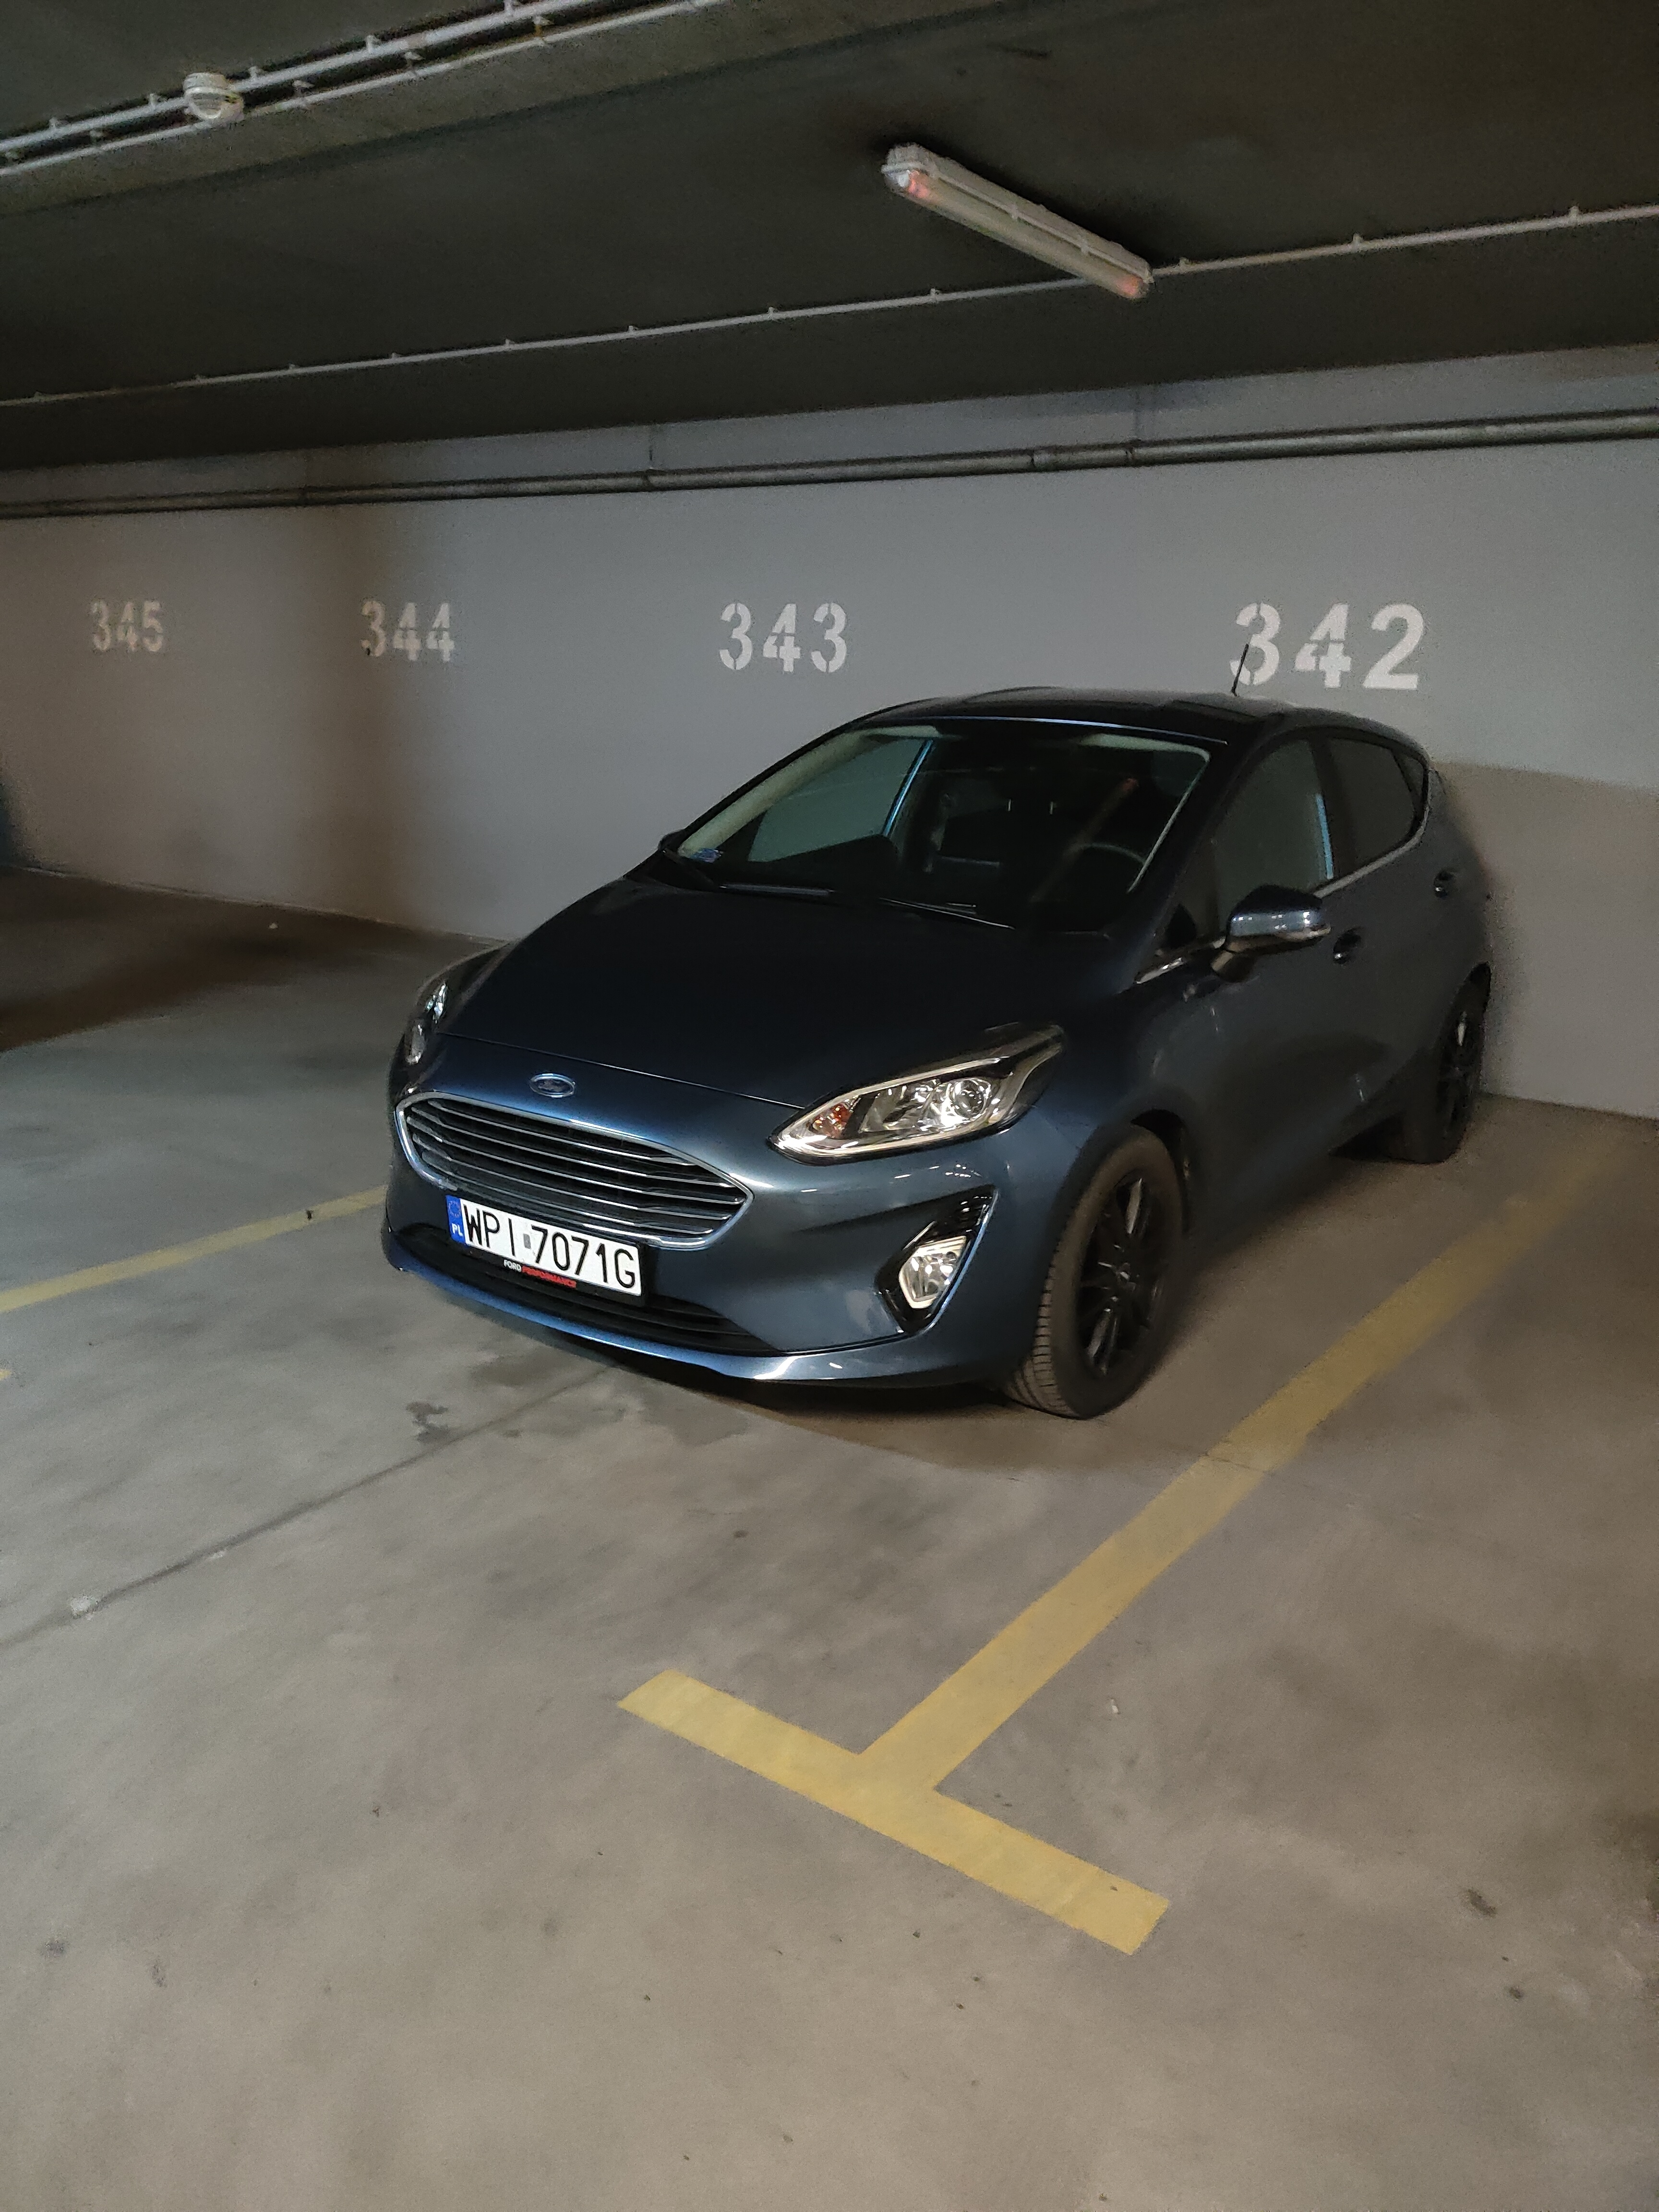number_plate: (443, 1192, 642, 1298)
